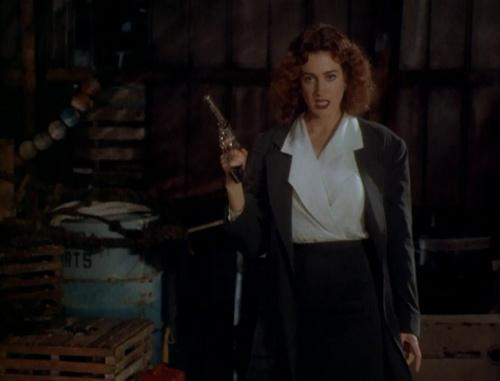Gun: (203, 94, 247, 183)
